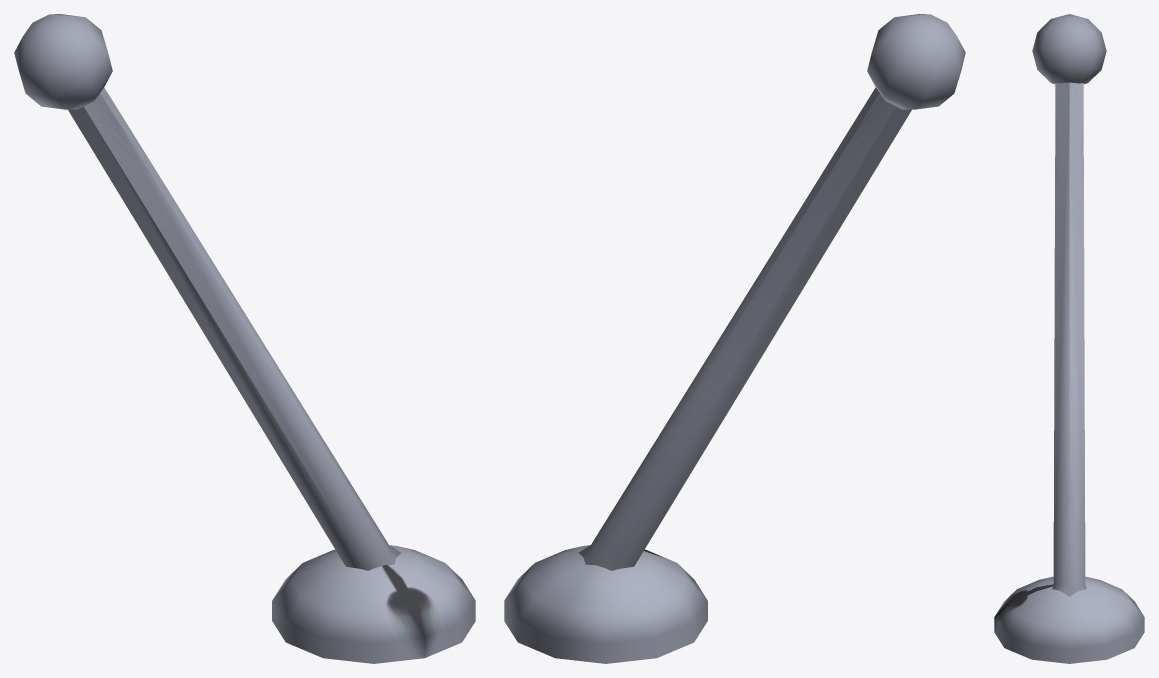
The model's file is e_asset_flagpole_angled.fbx.
3 views of the same model, side by side, from view 1: azimuth 30°, elevation 25°; view 2: azimuth 150°, elevation 25°; view 3: azimuth 270°, elevation 25° (orthographic). The views are drawn at different scales.
Parts seen in each view (by area): view 1: polySurface1027; view 2: polySurface1027; view 3: polySurface1027.
Part boxes in pixels (x1,y1,x2,y2): polySurface1027: (14, 14, 475, 663); polySurface1027: (504, 14, 965, 663); polySurface1027: (994, 14, 1144, 663).
Bounding box in the file's own units: 0.9835 × 1.45 × 0.3923.
